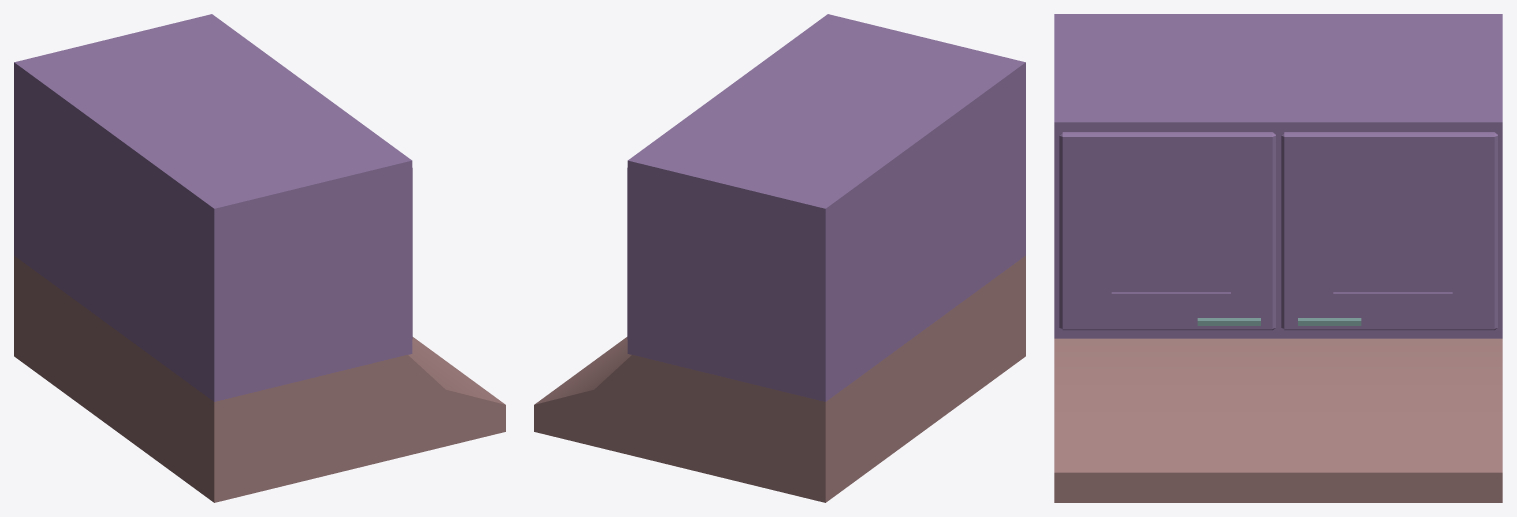
File: CupBoard_Hood.fbx
3 renders of one model, left to right at view 1: azimuth 30°, elevation 25°; view 2: azimuth 150°, elevation 25°; view 3: azimuth 270°, elevation 25°, orthographic. The views are drawn at different scales.
Visible parts, largest first — view 1: pasted__pCube2, pasted__pasted__pCube2; view 2: pasted__pCube2, pasted__pasted__pCube2; view 3: pasted__pasted__pasted__pasted__pasted__pasted__pasted__past (×4), pasted__pasted__pCube2, pasted__pCube2.
Boxes of the visible parts, x1,y1,x2,y2 form: pasted__pCube2: (14,14,412,401); pasted__pasted__pCube2: (14,256,505,502); pasted__pCube2: (627,14,1025,401); pasted__pasted__pCube2: (534,255,1025,502); pasted__pasted__pasted__pasted__pasted__pasted__pasted__past (×4): (1059,132,1497,330); pasted__pasted__pCube2: (1054,338,1502,502); pasted__pCube2: (1054,14,1502,338).
Size of the model in its own units: 4.23 by 4.08 by 5.03.
